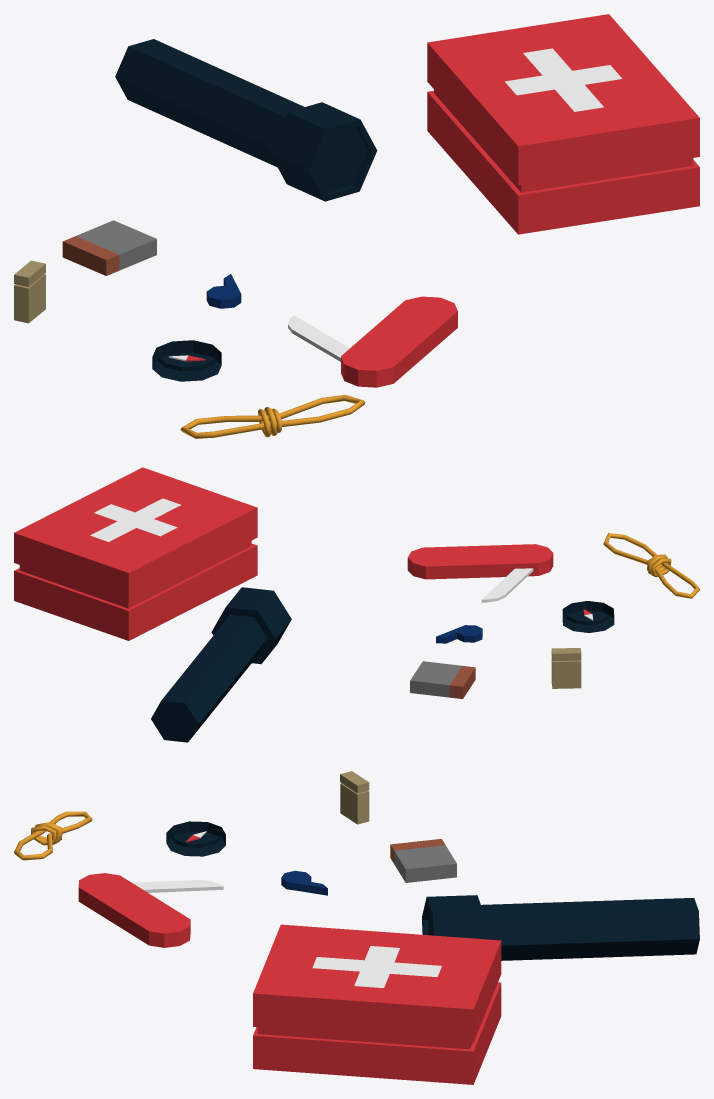
Rendered from Survival tools.glb.
3 views of the same model, one above another, from view 1: azimuth 30°, elevation 25°; view 2: azimuth 150°, elevation 25°; view 3: azimuth 270°, elevation 25° (orthographic). The views are drawn at different scales.
Parts seen in each view (by area): view 1: First Aid kit, Flashlight, Swiss knife, Matchbox, Paracord, Compass, Lighter, Whistle; view 2: First Aid kit, Flashlight, Swiss knife, Matchbox, Compass, Paracord, Lighter, Whistle; view 3: First Aid kit, Flashlight, Swiss knife, Matchbox, Compass, Lighter, Paracord, Whistle.
Boxes of the visible parts, x1=… form: First Aid kit: x1=427, y1=14, x2=699, y2=234; Flashlight: x1=115, y1=39, x2=377, y2=201; Swiss knife: x1=288, y1=296, x2=457, y2=387; Matchbox: x1=62, y1=220, x2=156, y2=275; Paracord: x1=180, y1=395, x2=365, y2=438; Compass: x1=152, y1=340, x2=221, y2=381; Lighter: x1=14, y1=260, x2=45, y2=323; Whistle: x1=206, y1=274, x2=241, y2=308; First Aid kit: x1=14, y1=467, x2=257, y2=640; Flashlight: x1=151, y1=587, x2=291, y2=742; Swiss knife: x1=407, y1=544, x2=553, y2=602; Matchbox: x1=410, y1=661, x2=475, y2=698; Compass: x1=562, y1=601, x2=614, y2=632; Paracord: x1=603, y1=533, x2=699, y2=598; Lighter: x1=551, y1=648, x2=581, y2=688; Whistle: x1=436, y1=625, x2=482, y2=643; First Aid kit: x1=253, y1=924, x2=501, y2=1084; Flashlight: x1=422, y1=895, x2=699, y2=960; Swiss knife: x1=78, y1=873, x2=223, y2=947; Matchbox: x1=390, y1=839, x2=456, y2=882; Compass: x1=166, y1=821, x2=225, y2=856; Lighter: x1=340, y1=771, x2=369, y2=824; Paracord: x1=14, y1=811, x2=92, y2=860; Whistle: x1=281, y1=870, x2=327, y2=895.
Bounding box in the file's own units: 0.7069 × 0.0957 × 0.7377.
Materials: 8 (8 with a texture image).
